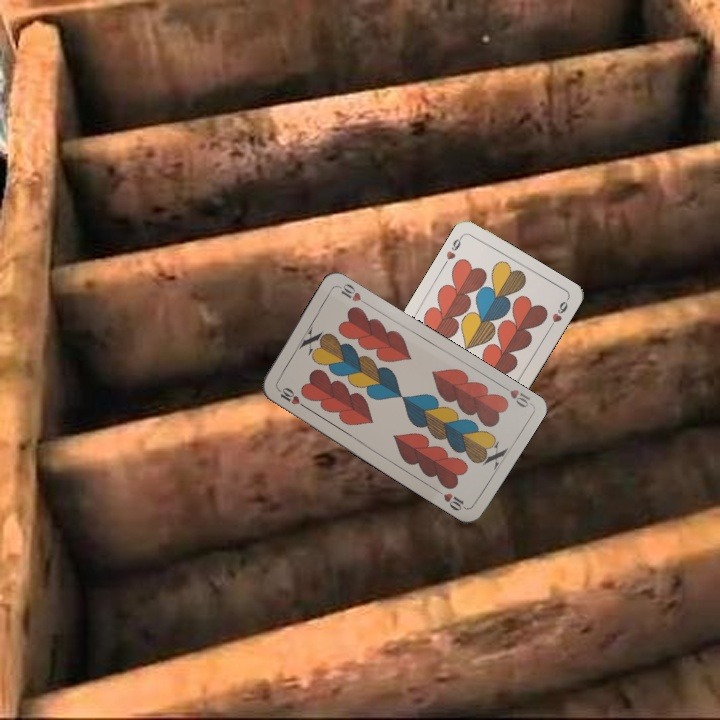H10: (497, 381, 533, 410), (273, 383, 309, 411)
H9: (439, 231, 465, 268)
